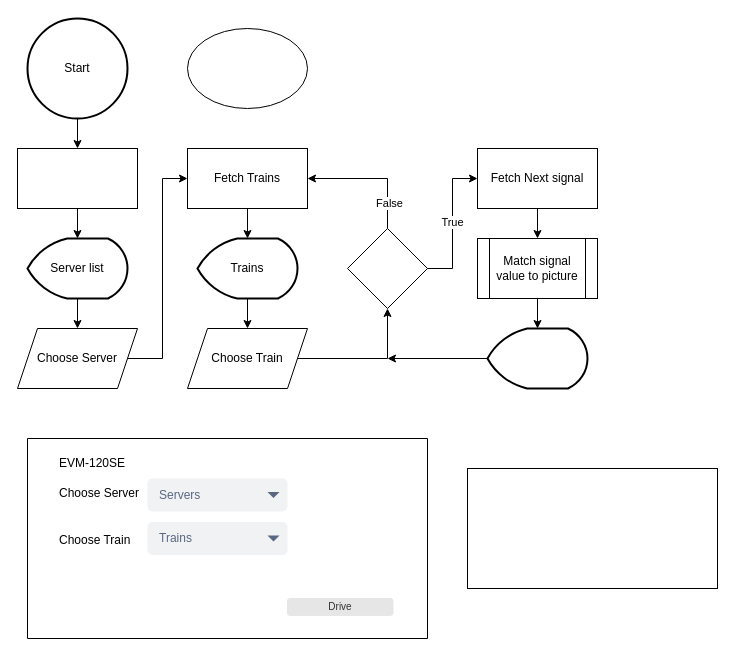
This 735x656 diagram has some shape labels left out. Each missing label, with the box of its shape:
Display Signal: (486, 327, 588, 389)
Display Signal Image from file: (466, 468, 718, 588)
Fetch Server List: (16, 148, 138, 208)
Is live train?: (346, 228, 428, 308)
Terminate on `ESC`: (186, 28, 308, 108)
